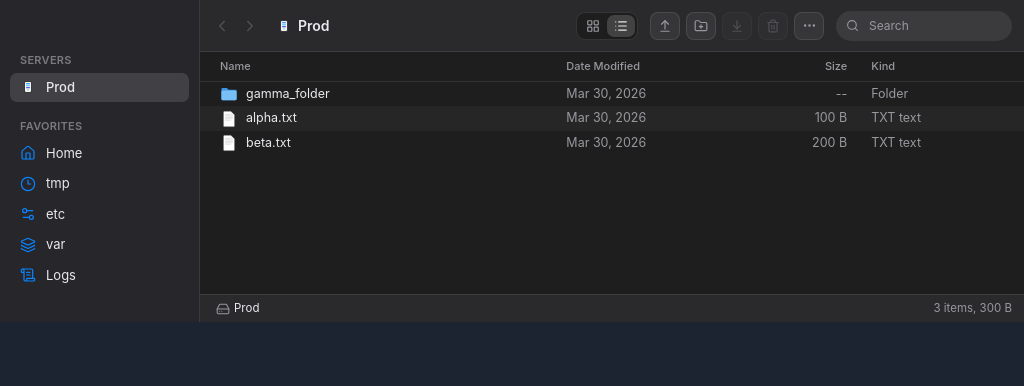
it: FilesApp multi-select › downloads files with progress and retries only the failed ones
The image size is (1024, 386).
Expected: the text "alpha.txt" is shown, top-left (246, 109), bottom-right (297, 128)
Press the mouse on the text "alpha.txt" at (612, 119), box top-left (200, 106), bottom-right (1023, 131)
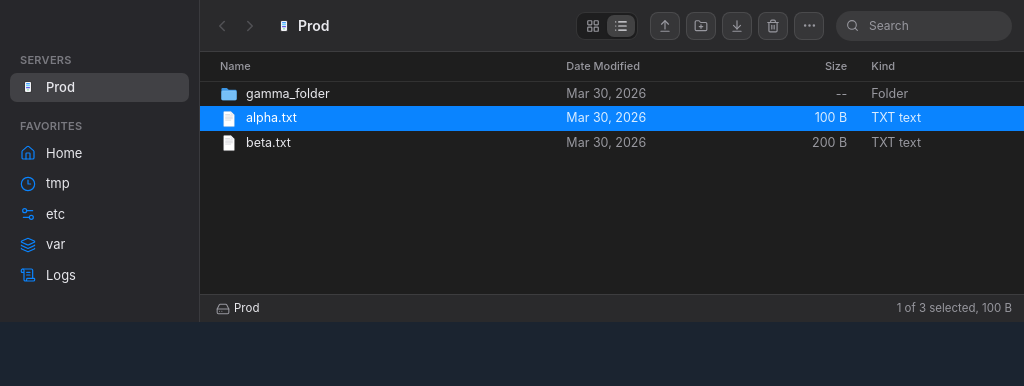
Press the mouse on the text "beta.txt" at (612, 143), box top-left (200, 131), bottom-right (1023, 156)
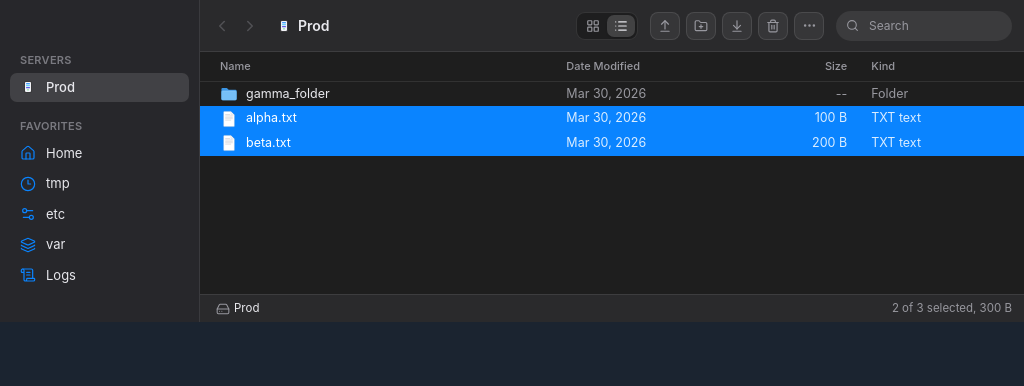
Click the button named "Download" at (737, 26), box top-left (722, 12), bottom-right (752, 40)
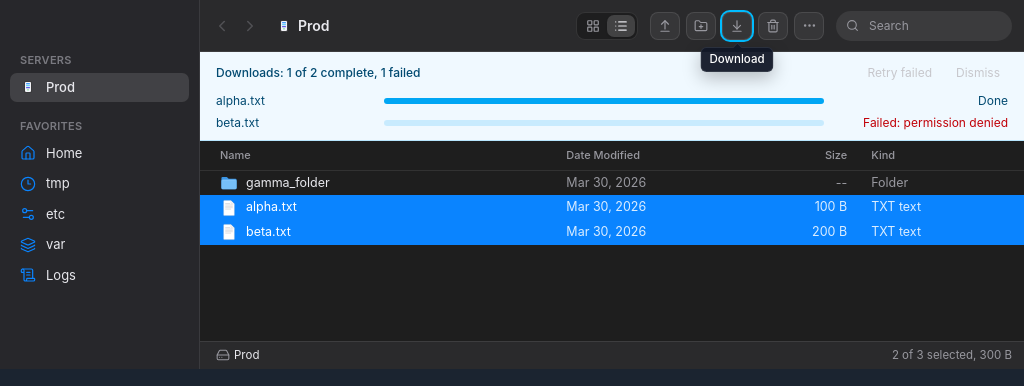
Expected: the message "Downloads" shows "1 of 2 complete, 1 failed", top-left (200, 52), bottom-right (1023, 141)
Expected: the message "Downloads" shows "Failed: permission denied", top-left (863, 115), bottom-right (1008, 130)
Click the button "Retry failed" at (900, 73), box top-left (860, 60), bottom-right (940, 86)
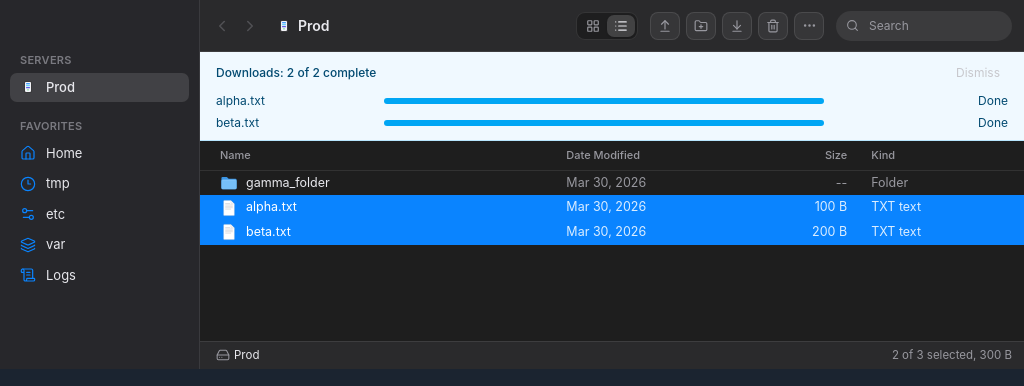
Expected: the message "Downloads" shows "2 of 2 complete", top-left (200, 52), bottom-right (1023, 141)
